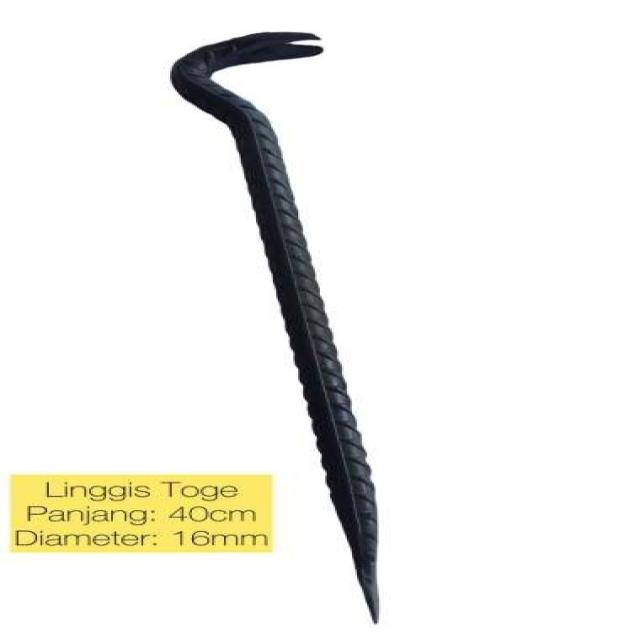Linggis: (169, 30, 403, 624)
